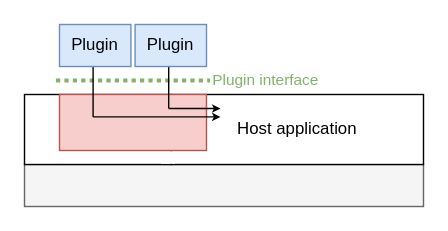
The diagram is 448 pixels wide and 231 high, and some of its shapes have lost their labels. The box of each missing label's shape, as (x1, y1, x2, y2) in pixels:
Host system: (23, 163, 424, 206)
Plugin system: (58, 93, 206, 150)
